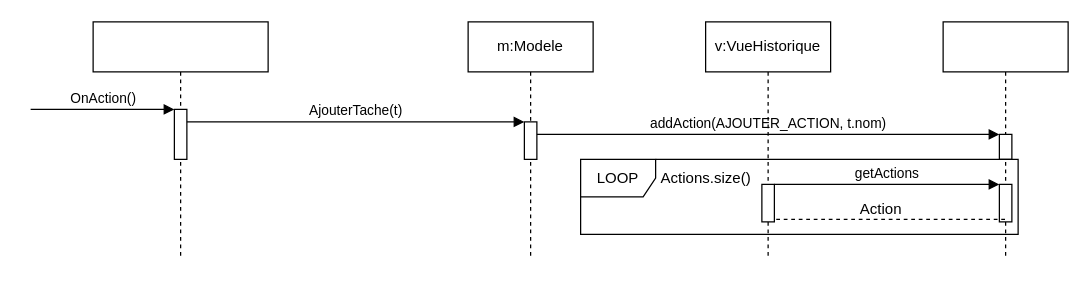
Image size: 1090x281. Some labels were removed from this diagram. Here are the shapes that lost their labels. From the top down, the centre of each, then its label:
[180,140]: c:ControleurAjouterTache
[1005,140]: h:Historique
